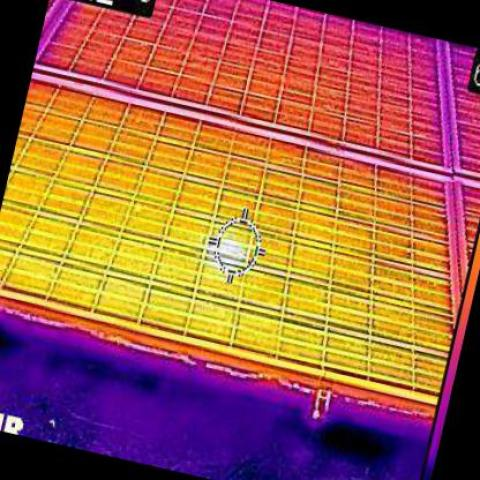fault: (214, 236, 252, 265)
